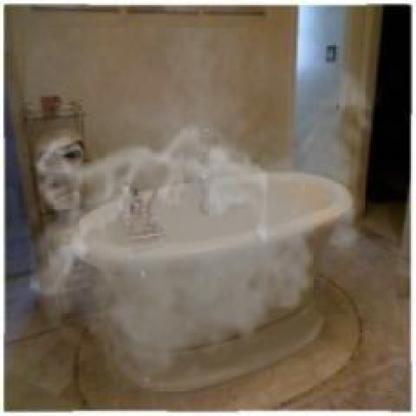Smoke: (26, 28, 385, 390)
